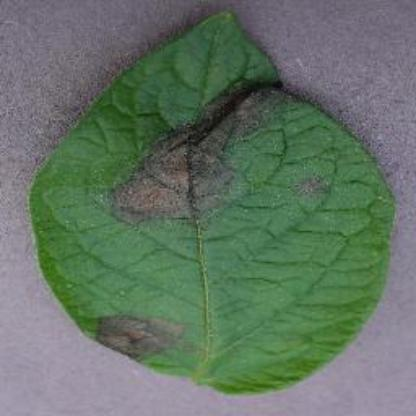Late-Blight: (24, 8, 396, 396)
